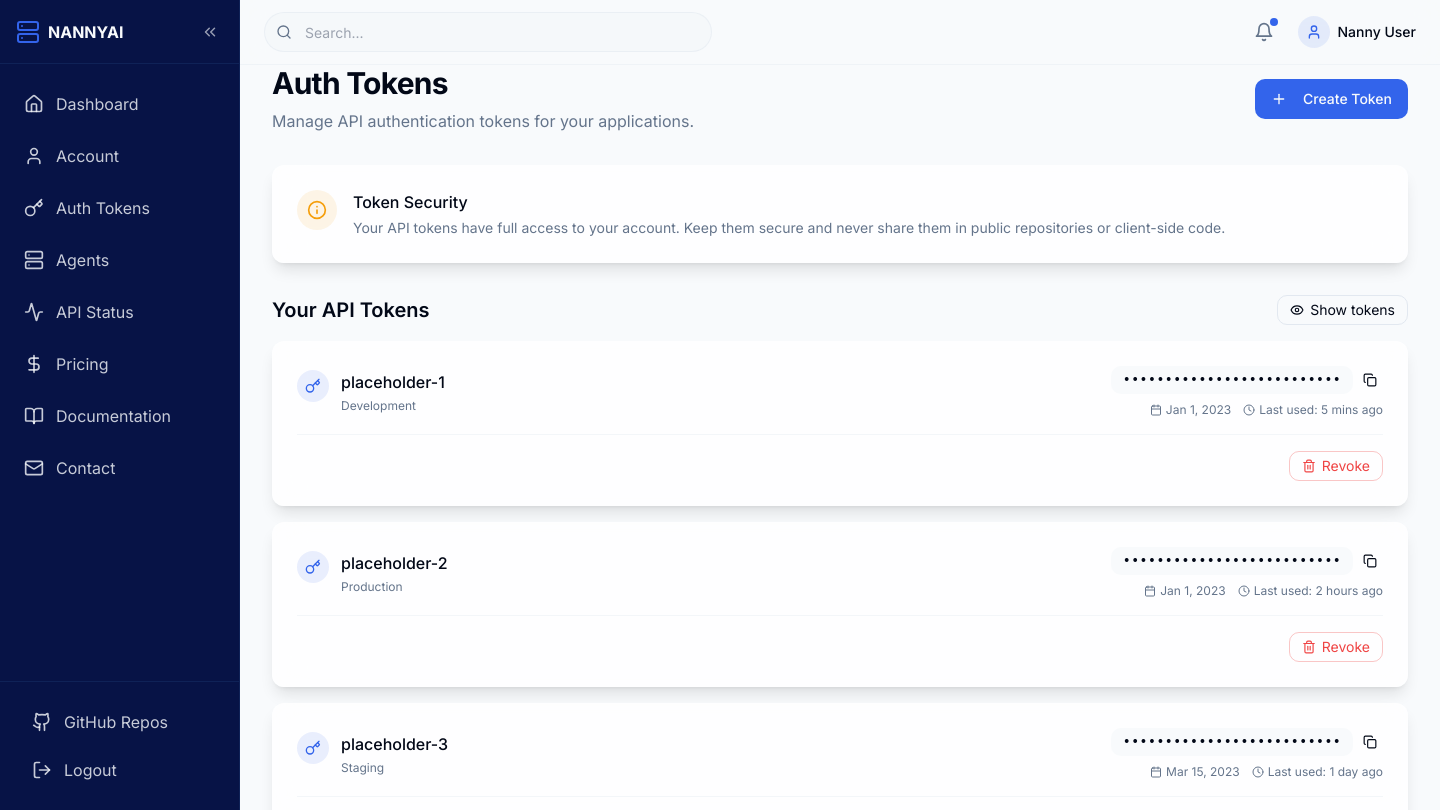
Tokens component › should open revoke dialog when revoke button is clicked
Expected: the heading "Auth Tokens" is shown, [272,65,448,101]
// Click on first revoke button
Click the button "Revoke" below "5 mins ago". click: (1336, 466)
box: [1289,451,1383,481]
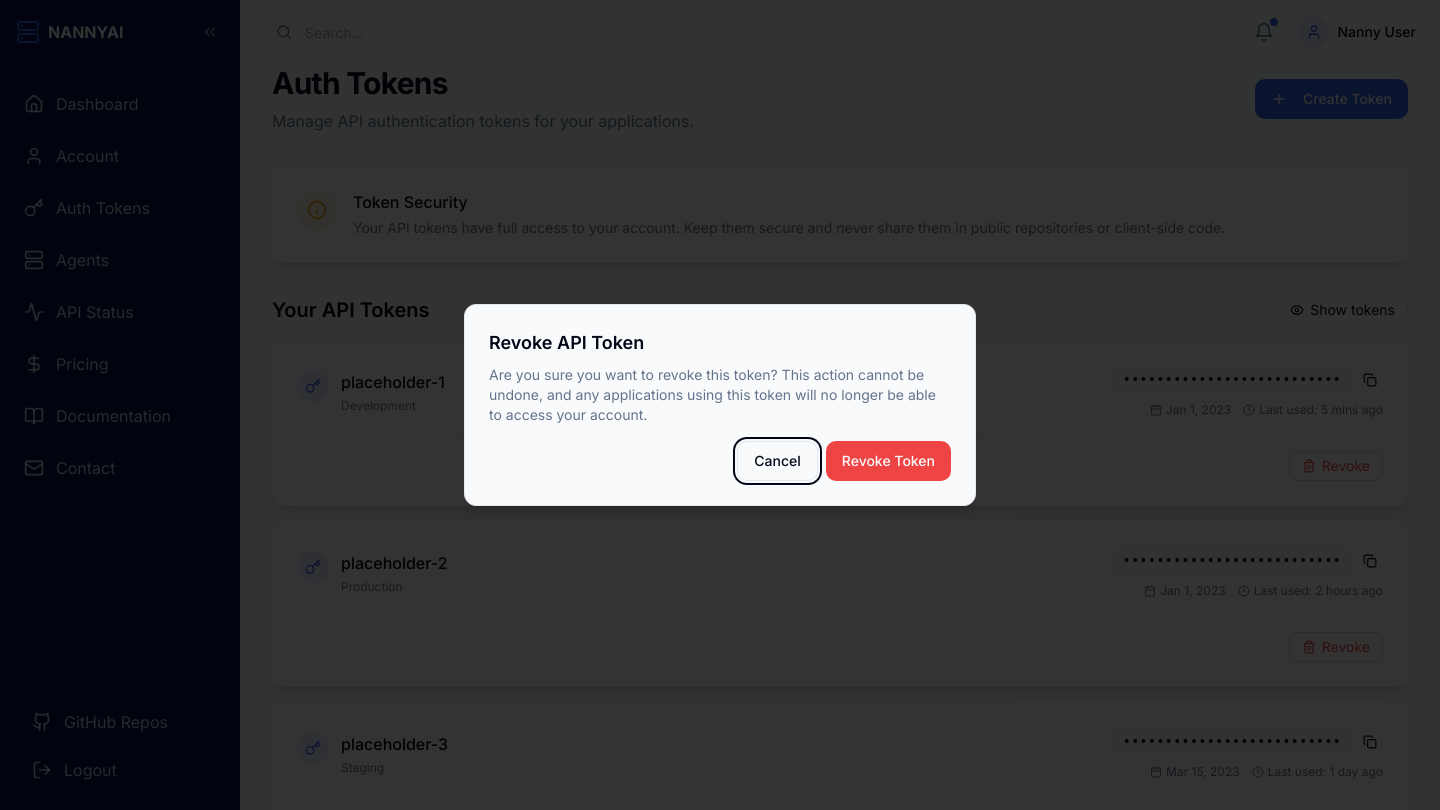
Expected: the heading "Revoke API Token" is shown, [489,332,644,353]
Expected: the text "Are you sure you want to revoke this token" is shown, [489,366,936,423]
